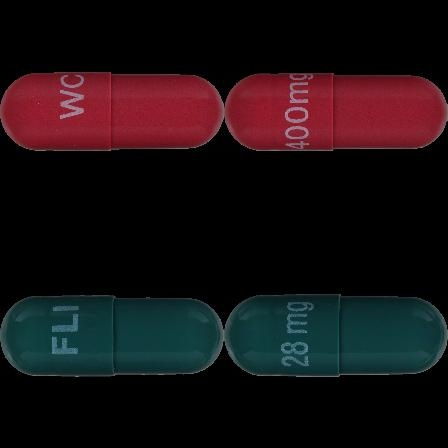68151-5652: (0, 0, 224, 224)
